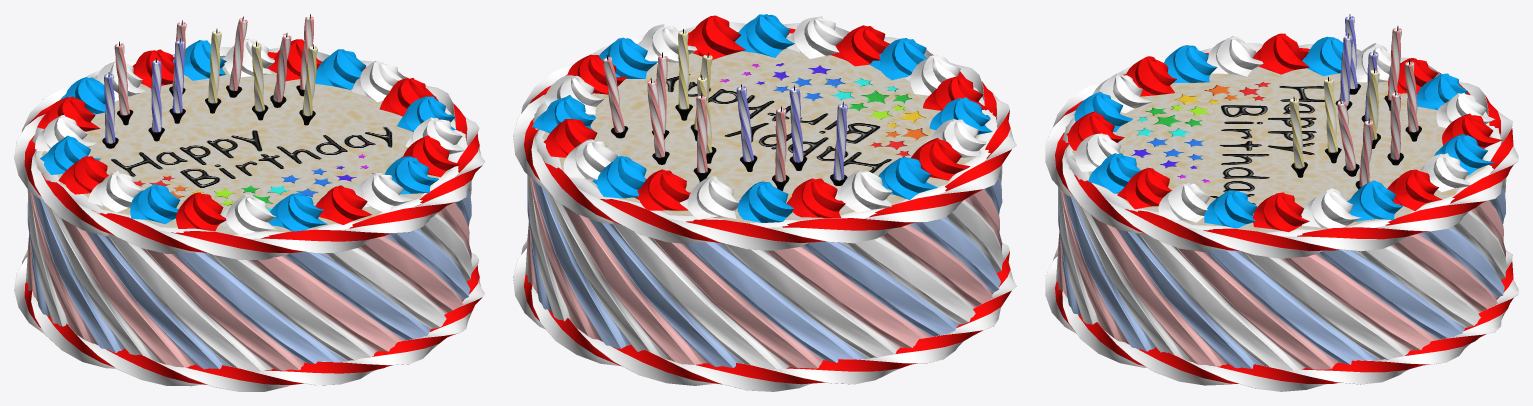
File: cake.glb
3 views of the same model, side by side, from view 1: azimuth 30°, elevation 25°; view 2: azimuth 150°, elevation 25°; view 3: azimuth 270°, elevation 25° (orthographic). The views are drawn at different scales.
Visible parts, largest first — view 1: 10868_birthday-cake_v3; view 2: 10868_birthday-cake_v3; view 3: 10868_birthday-cake_v3.
Boxes of the visible parts, x1,y1,x2,y2 form: 10868_birthday-cake_v3: (14,14,484,391); 10868_birthday-cake_v3: (513,14,1016,391); 10868_birthday-cake_v3: (1045,14,1518,391).
Size of the model in its own units: 0.8632 by 0.4709 by 0.8626.
11 materials, 1 textured.
